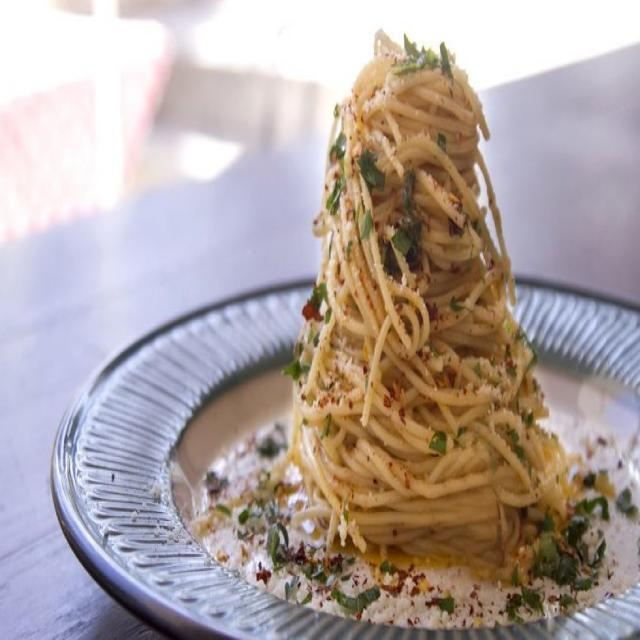Oil pasta: (269, 11, 601, 585)
